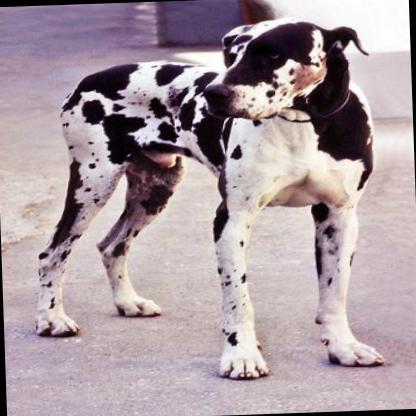Great_Dane: (18, 12, 392, 386)
